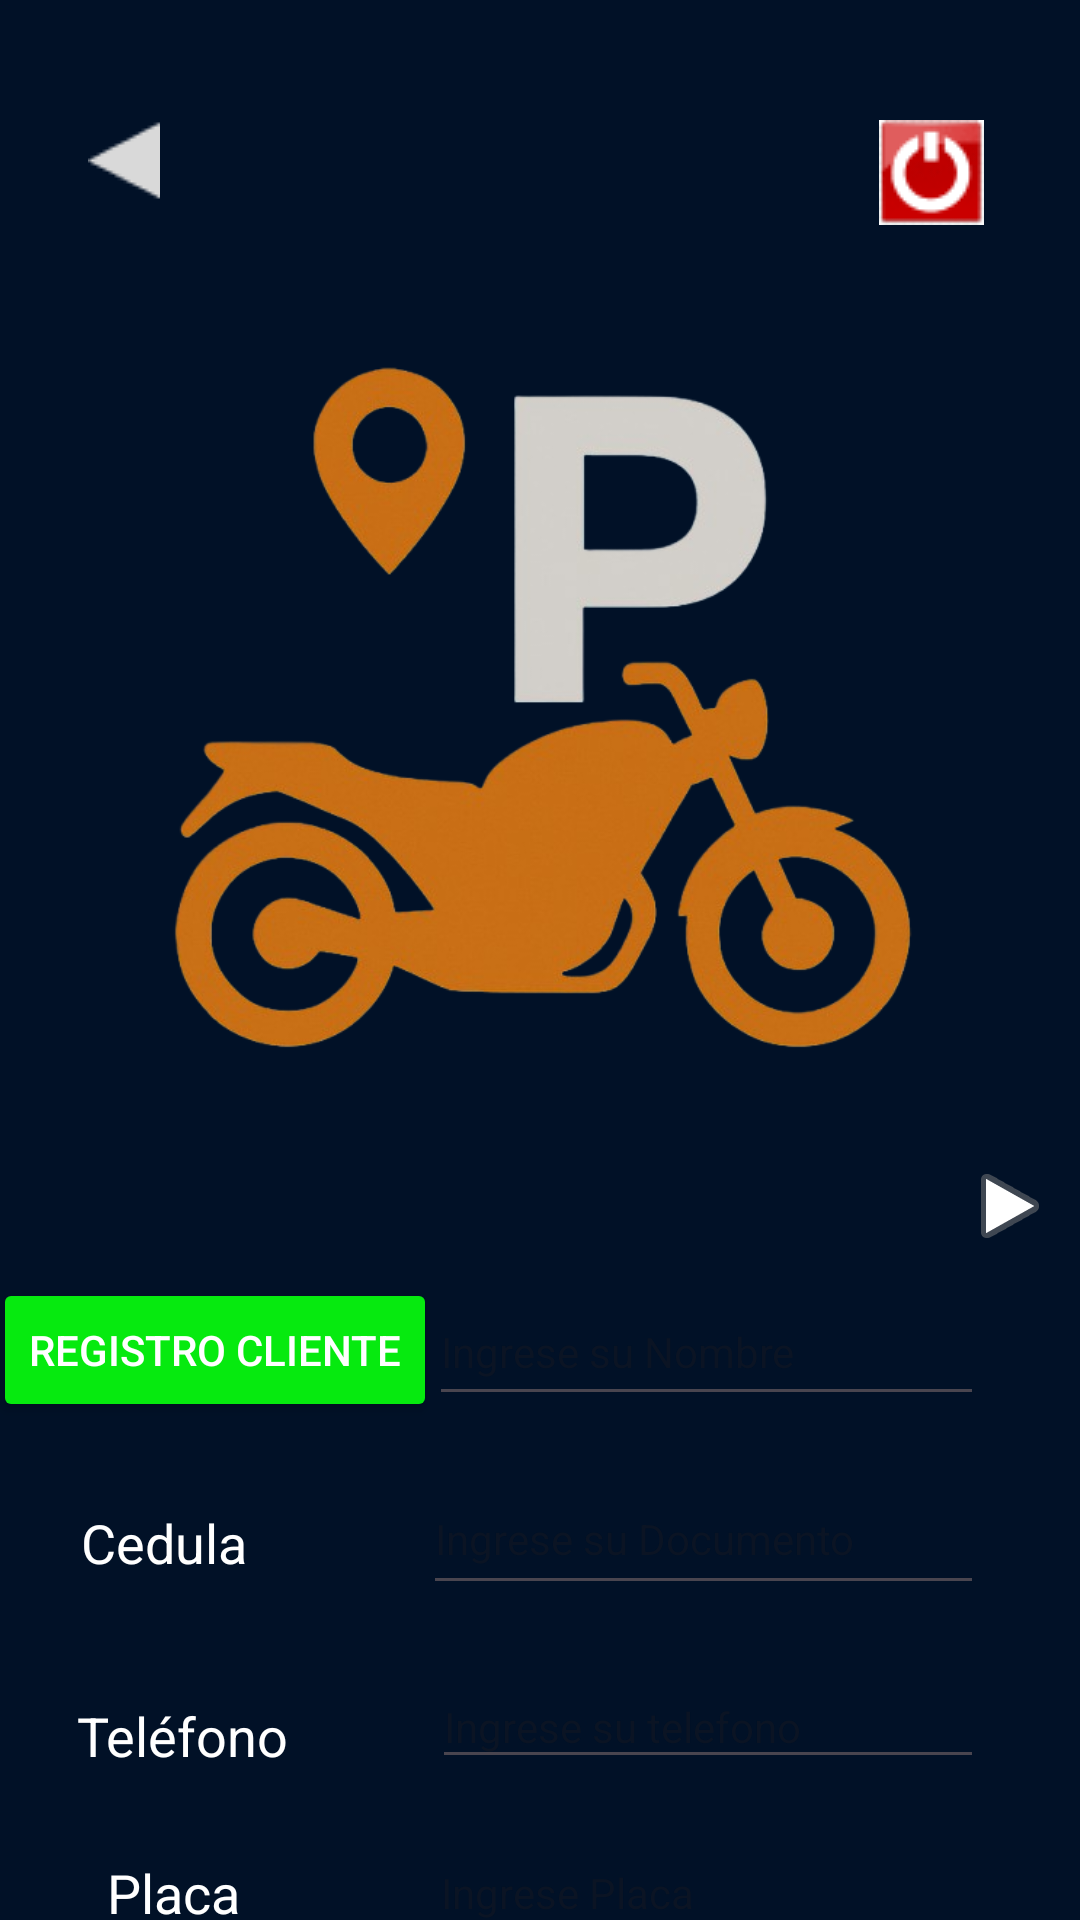

Screen size 1080 x 1920. Icon name, then its box in pixels as (x1, y1, x2, y2):
play: (981, 1174, 1039, 1238)
